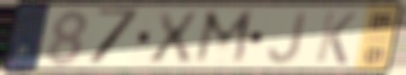7: (89, 6, 144, 70)
8: (47, 8, 90, 67)
J: (265, 10, 310, 66)
K: (312, 10, 359, 67)
M: (190, 7, 258, 68)
X: (145, 10, 200, 66)
